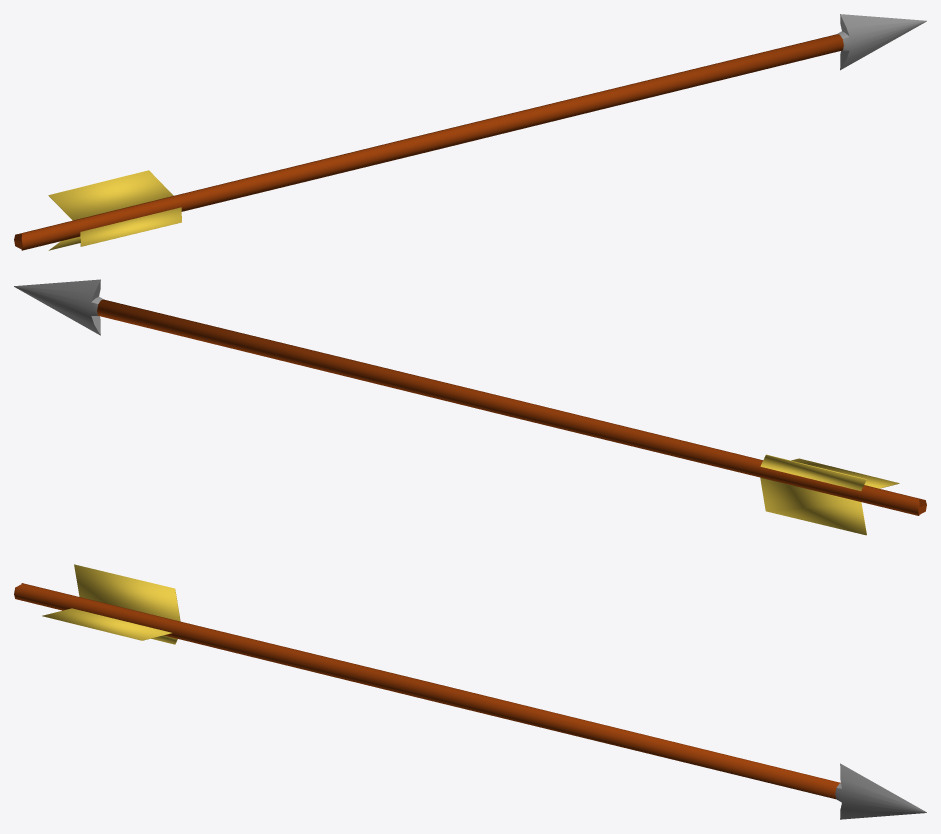
Rendered from Arrow (2).fbx.
3 renders of one model, top to bottom at view 1: azimuth 30°, elevation 25°; view 2: azimuth 150°, elevation 25°; view 3: azimuth 330°, elevation 25°, orthographic.
Visible parts, largest first — view 1: Arrow, Fletching01, HeadArrow; view 2: Arrow, Fletching01, HeadArrow; view 3: Arrow, Fletching01, HeadArrow.
Part boxes in pixels (x1,y1,x2,y2): Arrow: (14,34,843,250); Fletching01: (48,170,181,250); HeadArrow: (837,14,926,70); Arrow: (97,299,926,515); Fletching01: (760,454,899,535); HeadArrow: (14,279,103,335); Arrow: (14,583,840,799); Fletching01: (42,564,180,644); HeadArrow: (835,763,926,819).
Bounding box in the file's own units: 73.62 × 4.39 × 4.69.
